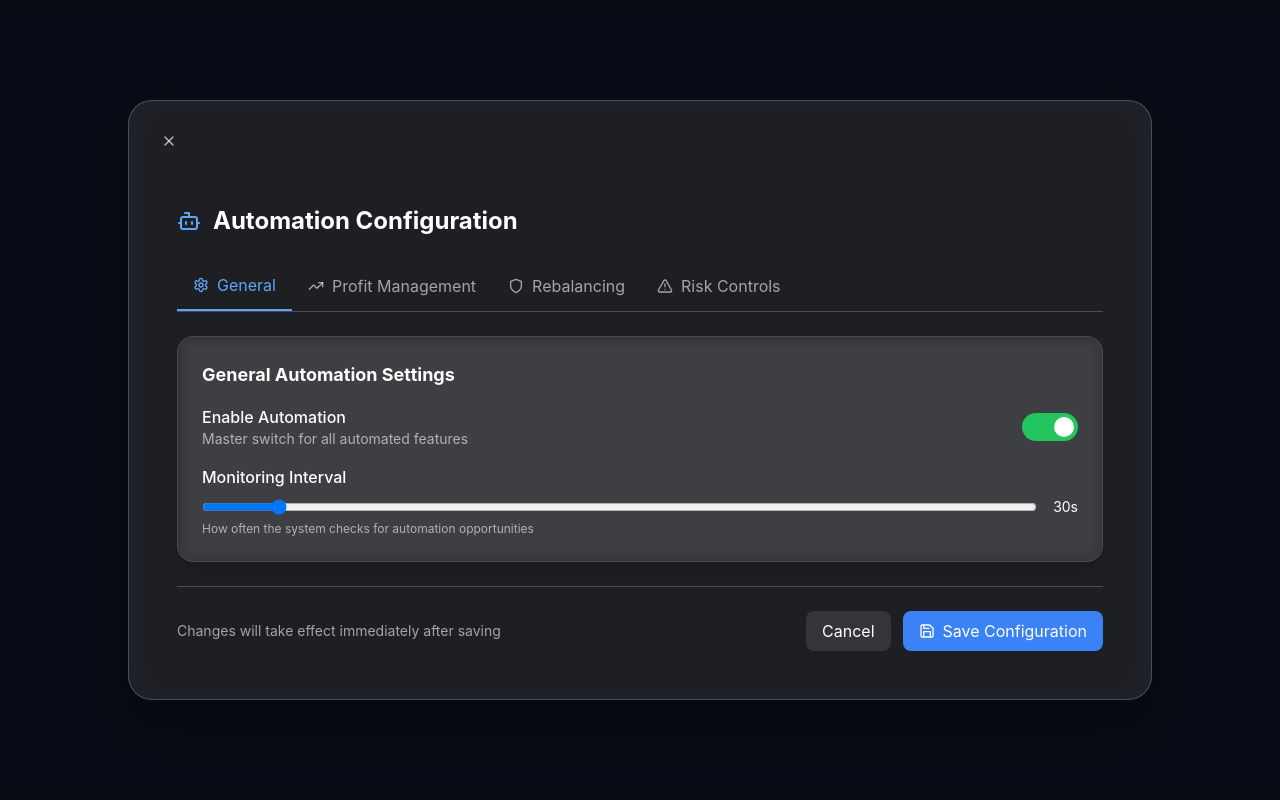
Test: AutomationConfigPanel › displays profit management settings
Click the button "Profit Management" at (392, 286), box [292,261,492,311]
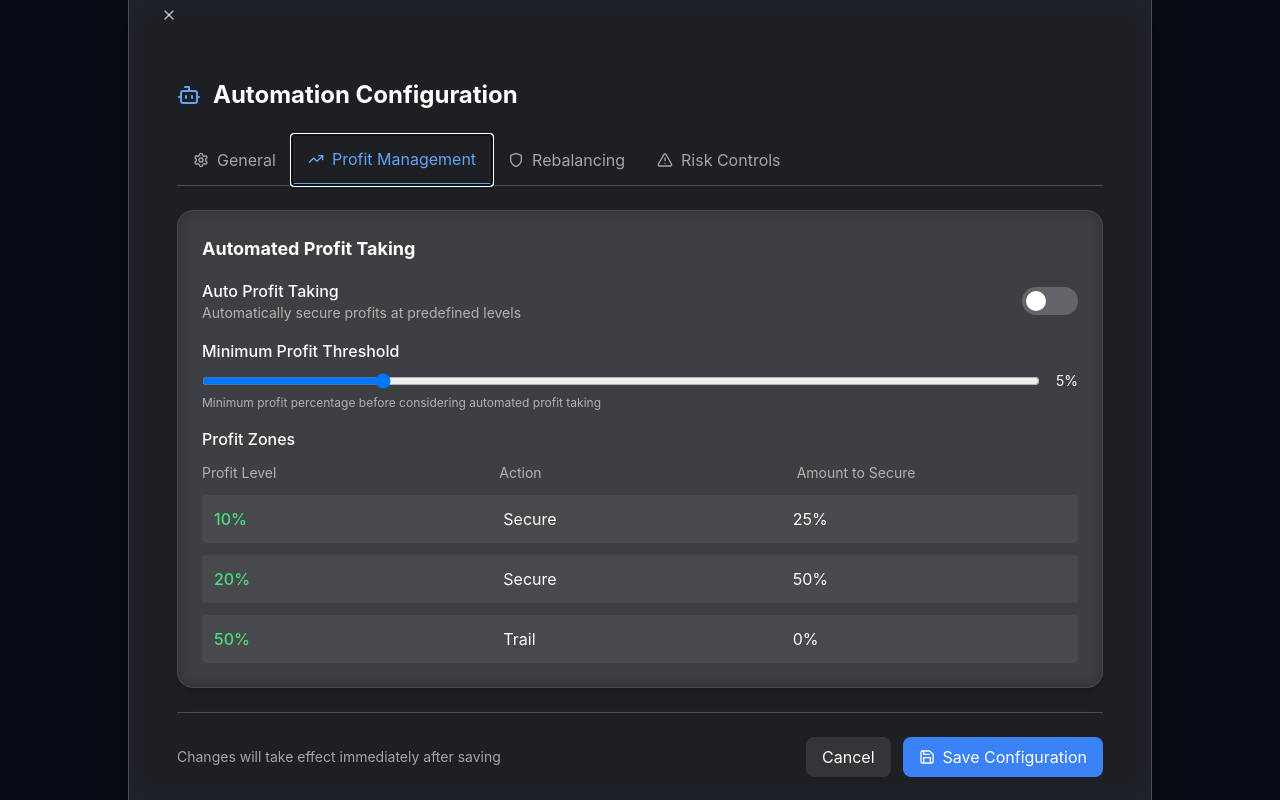
Now the heading "Automated Profit Taking" is shown, box [202,238,415,259]
Now the text "Auto Profit Taking" is shown, box [202,281,339,301]
Now the text "Minimum Profit Threshold" is shown, box [202,341,400,361]
